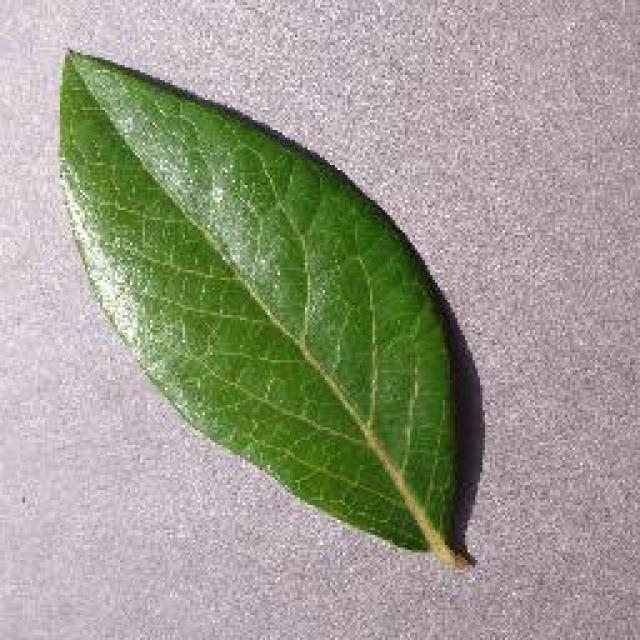Blu_healthy: (88, 130, 418, 475)
